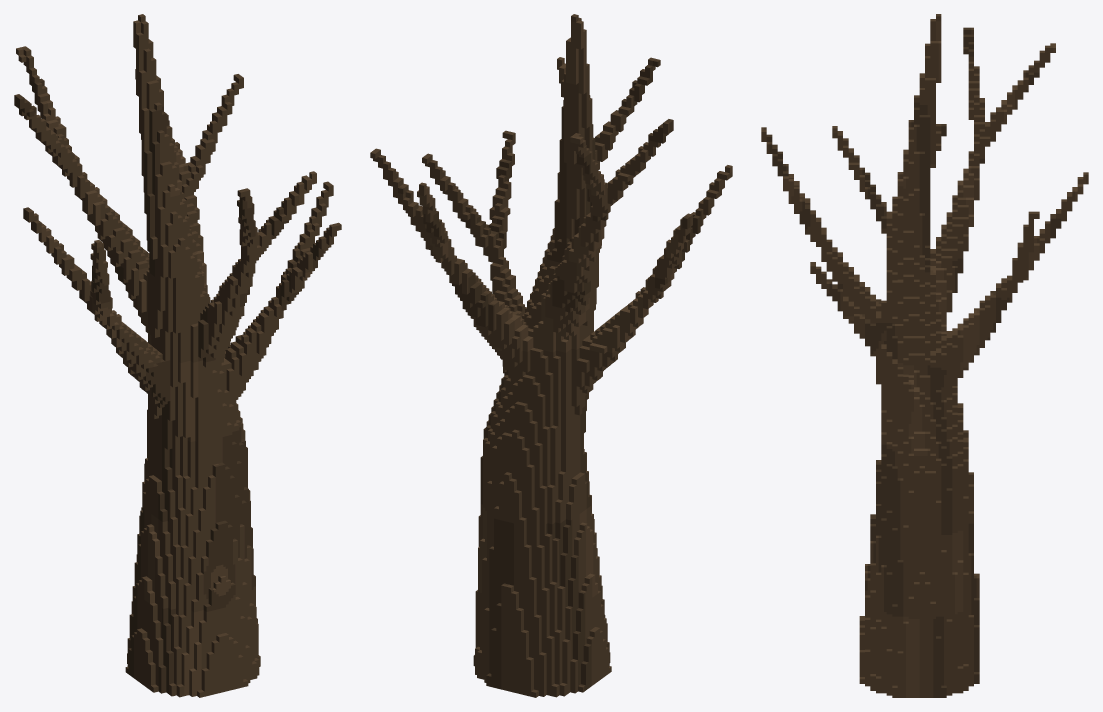
File: oak_mature_winter_2.glb
3 renders of one model, left to right at view 1: azimuth 30°, elevation 25°; view 2: azimuth 150°, elevation 25°; view 3: azimuth 270°, elevation 25°, orthographic. The views are drawn at different scales.
Parts seen in each view (by area): view 1: VoxelVisual; view 2: VoxelVisual; view 3: VoxelVisual.
Part boxes in pixels (x1=…): VoxelVisual: x1=14, y1=14, x2=341, y2=697; VoxelVisual: x1=370, y1=14, x2=732, y2=697; VoxelVisual: x1=761, y1=14, x2=1088, y2=697.
Size of what is drawn, in the model's own units: 7.25 by 16.12 by 7.5.
